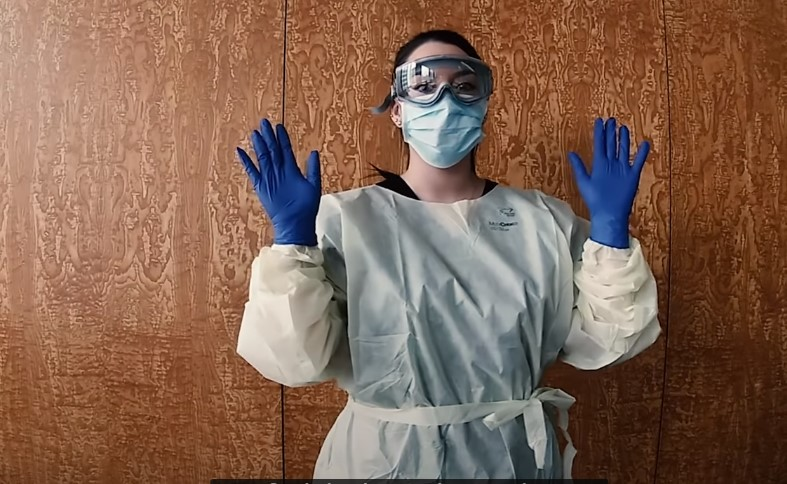face_with_mask: (388, 28, 494, 169)
